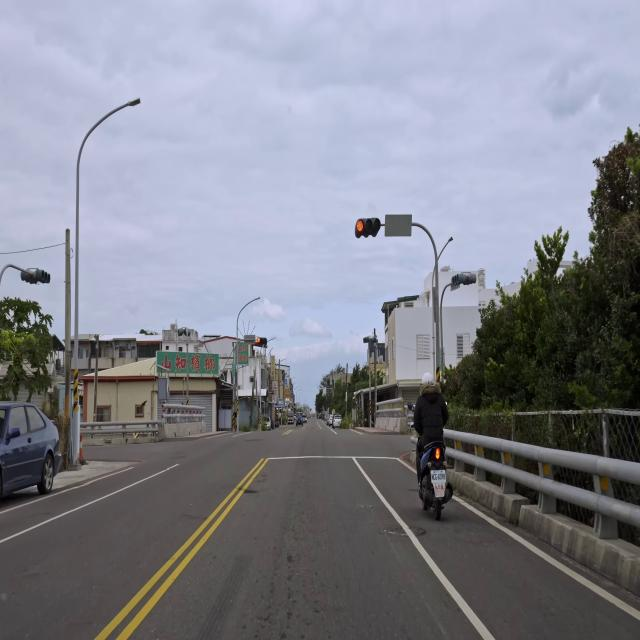red light: (354, 217, 381, 238), (256, 336, 267, 346)
